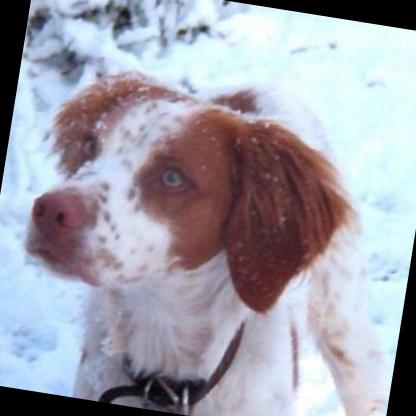Brittany_spaniel: (0, 52, 406, 416)
